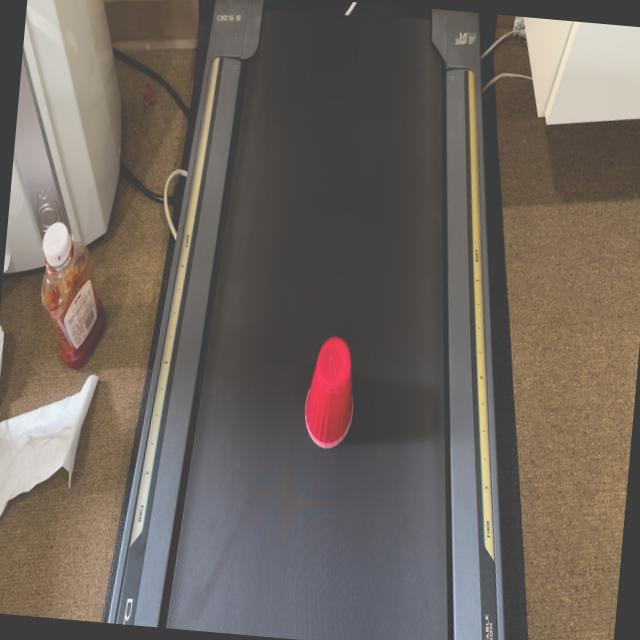Recycle: (299, 331, 362, 452)
